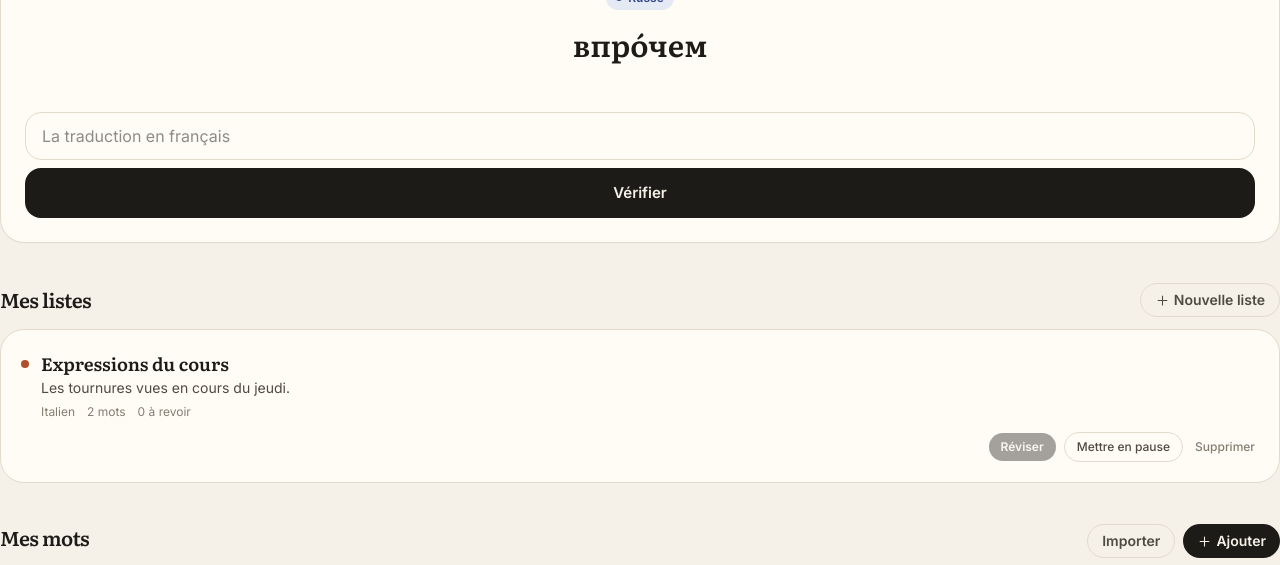
Test: VocabularyView › validates and adds a new word
The width and height of the screenshot is (1280, 565).
Click the button "Ajouter": (1232, 541) [1183,524,1279,558]
(page scrolled)
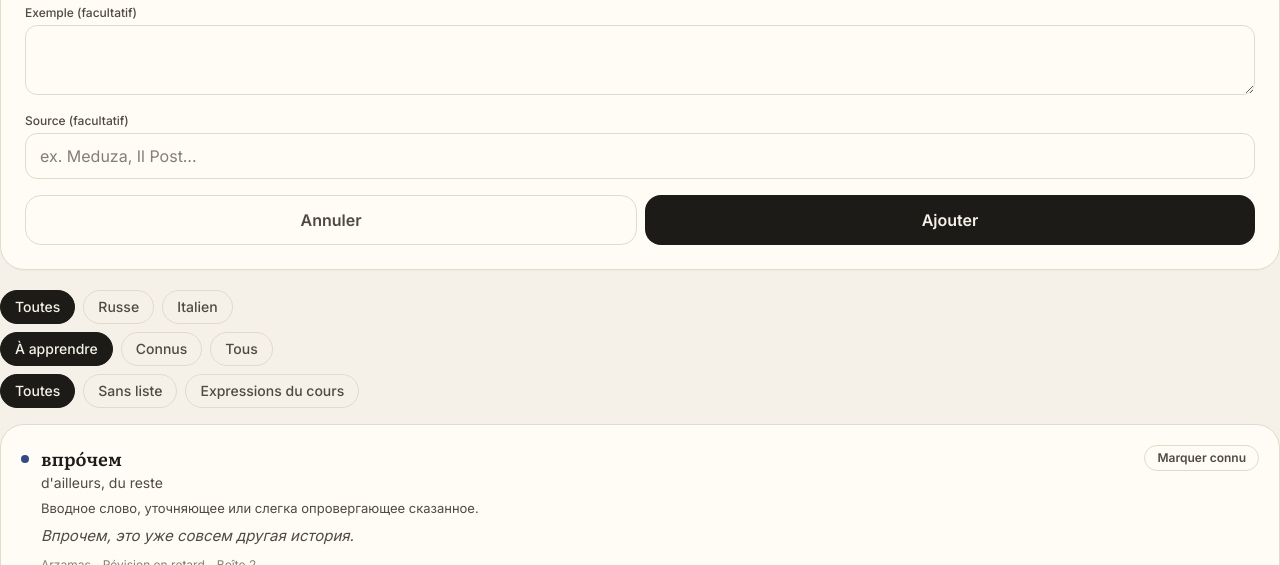
Click the button "Ajouter": (950, 220) [645,195,1255,245]
(page scrolled)
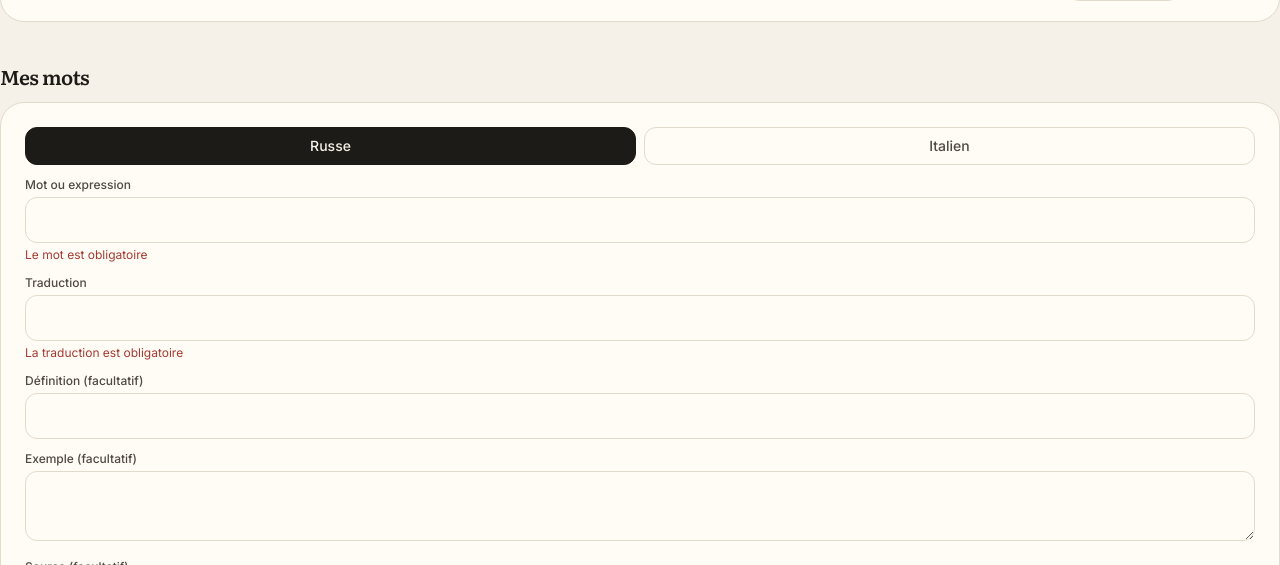
Now the messages read "Le mot est obligatoire", "La traduction est obligatoire", in this order, box [25,247,148,262]; [25,345,183,360]
In the field labelled "Mot ou expression": (640, 220) [25,197,1255,243], type "вдобавок"
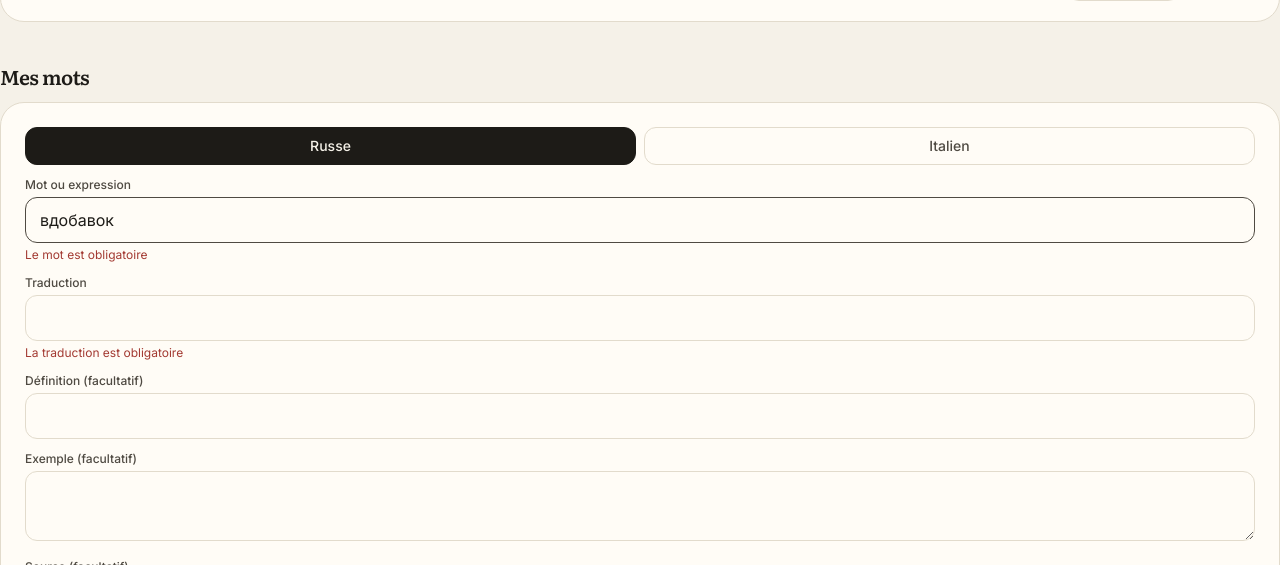
In the field labelled "Traduction": (640, 318) [25,295,1255,341], type "en plus"
(page scrolled)
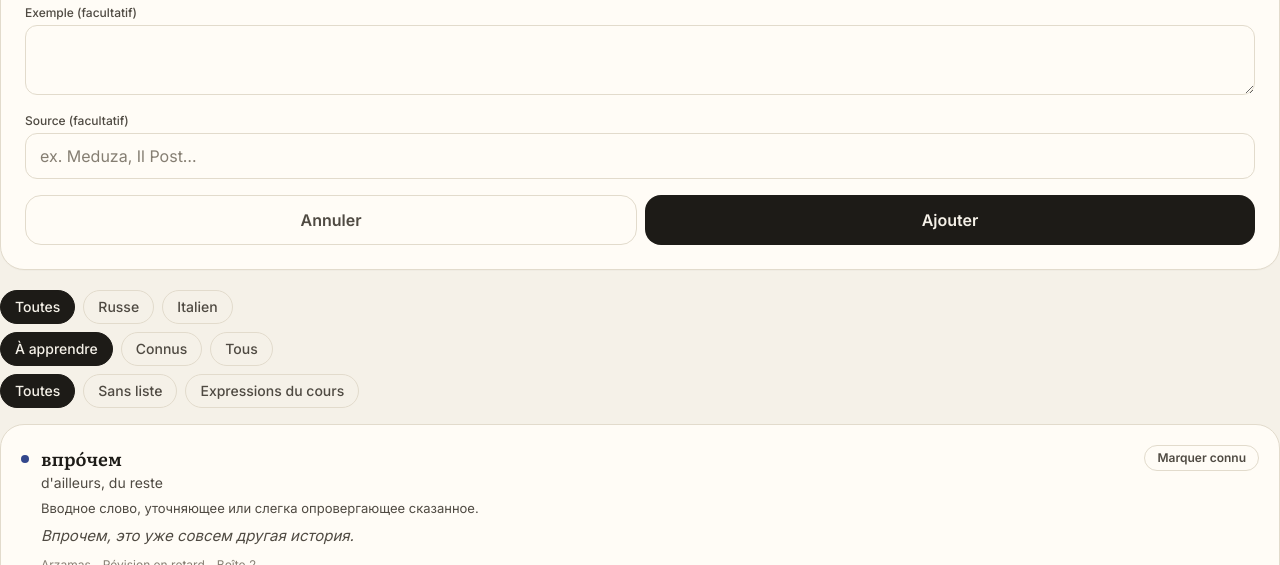
Click the button "Ajouter": (950, 220) [645,195,1255,245]
(page scrolled)
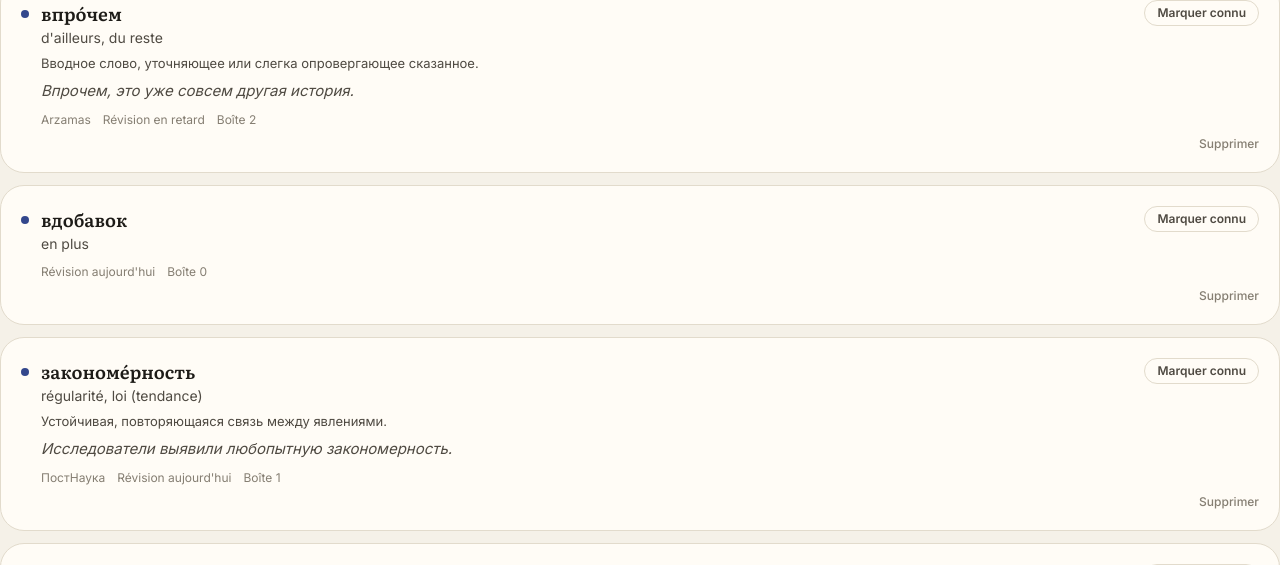
Now the text "вдобавок" is shown, box [41,206,127,233]
